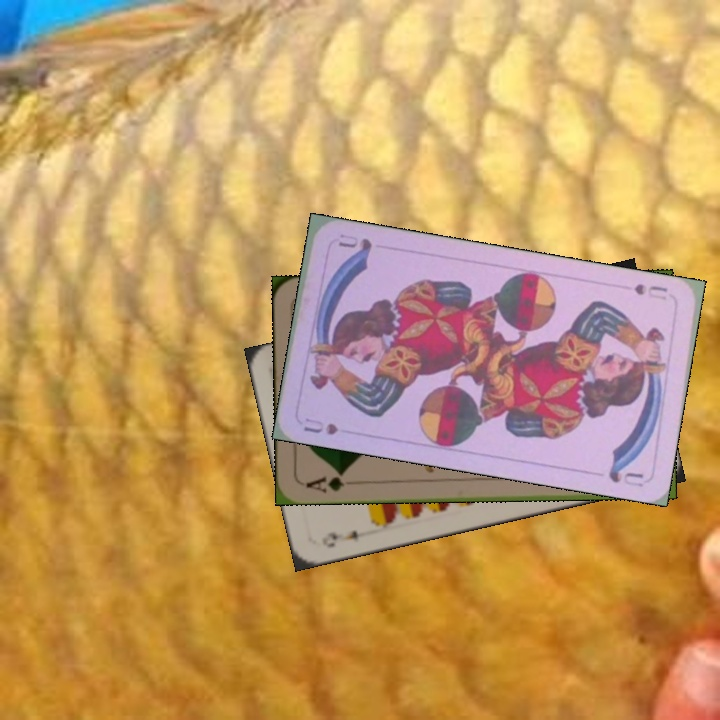E9: (318, 526, 361, 551)
GA: (302, 468, 347, 496)
SU: (299, 413, 341, 437), (630, 280, 670, 303)
